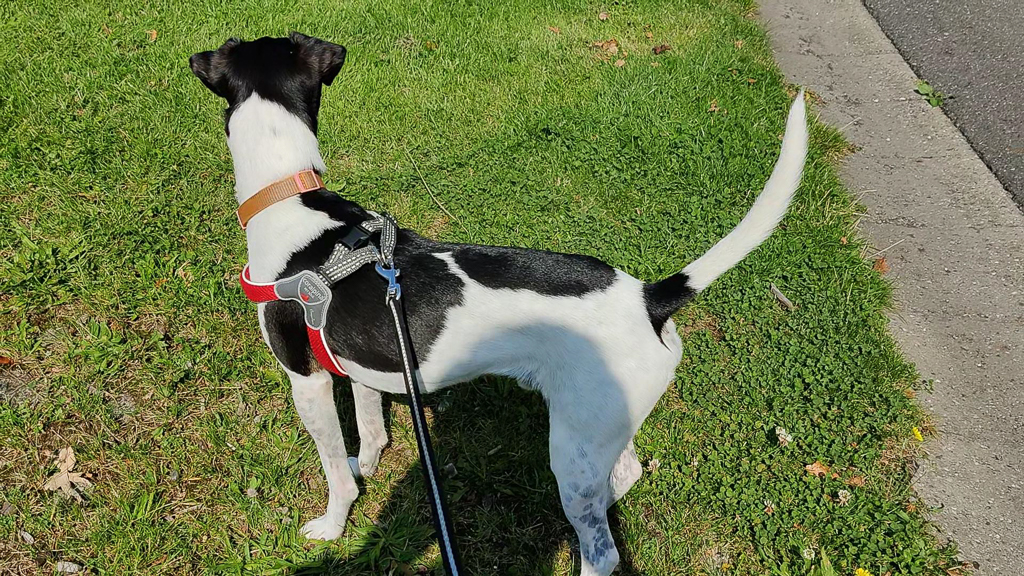Dog: (175, 22, 828, 576)
